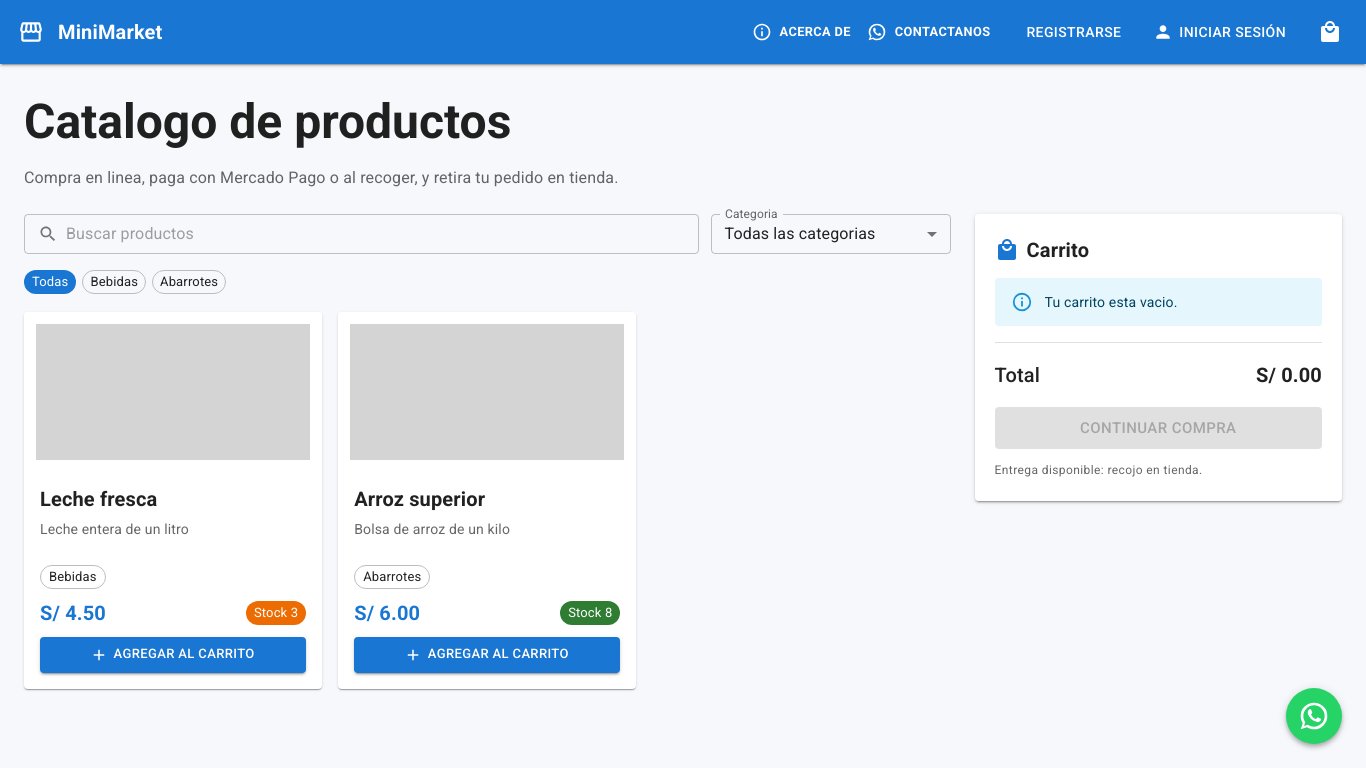
ClienteTiendaPage - catalogo y carrito › filtra el catalogo por texto y muestra el estado vacio sin coincidencias
Expected: the heading "Leche fresca" is shown, [40,487,157,511]
Type "arroz" into the field with placeholder "Buscar productos" at (382,234), box [66,214,699,254]
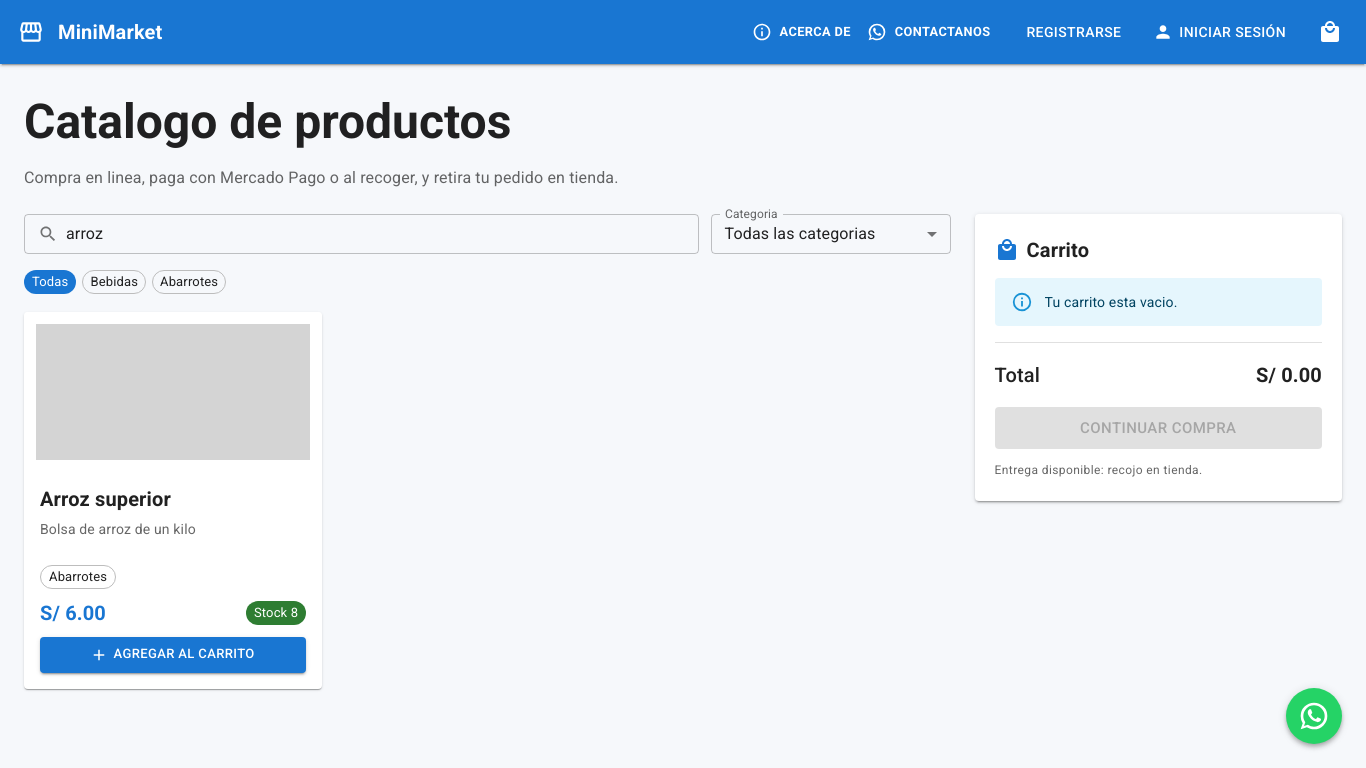
Expected: the heading "Arroz superior" is shown, [40,487,171,511]
Result: the heading "Leche fresca" is gone
Replace the text in the field with placeholder "Buscar productos" with "producto inexistente" at (382,234), box [66,214,699,254]
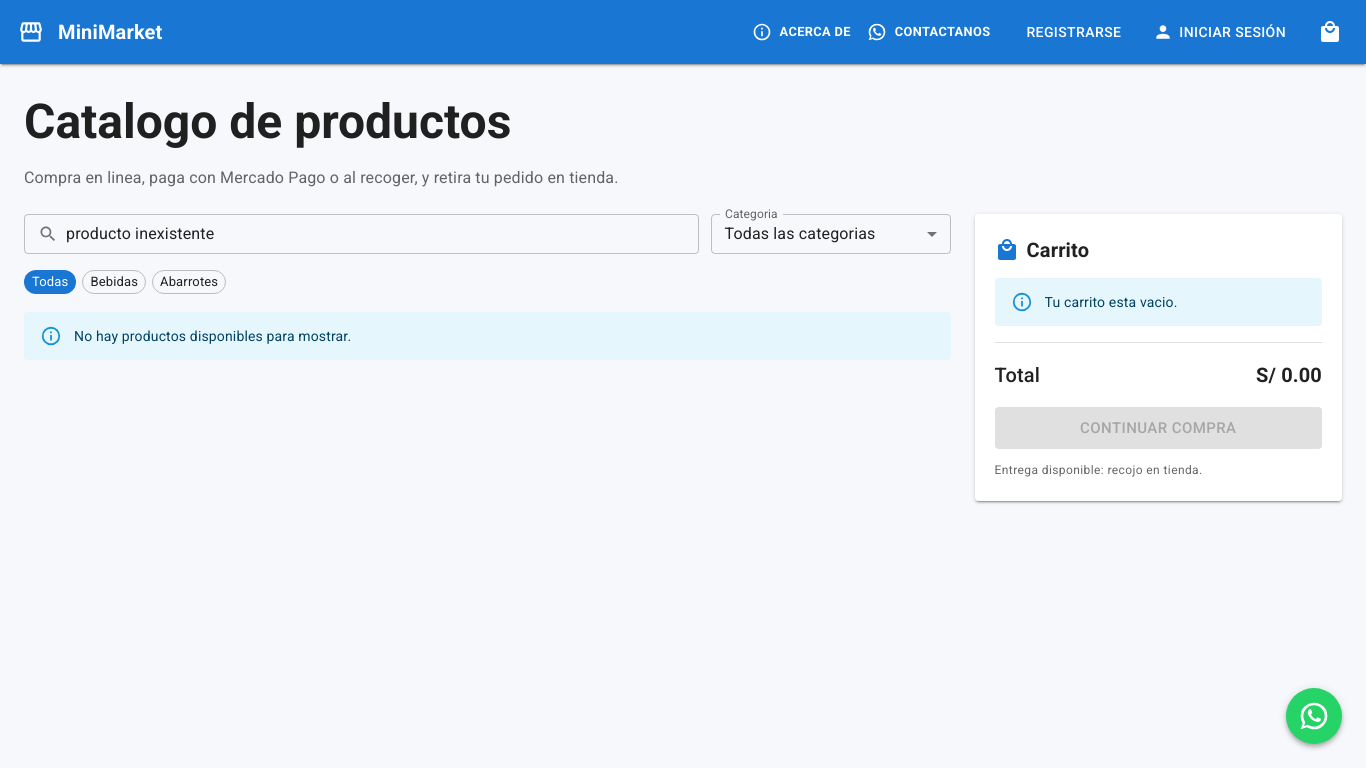
Result: the text "No hay productos disponibles para mostrar." is shown at [74,328,351,344]
